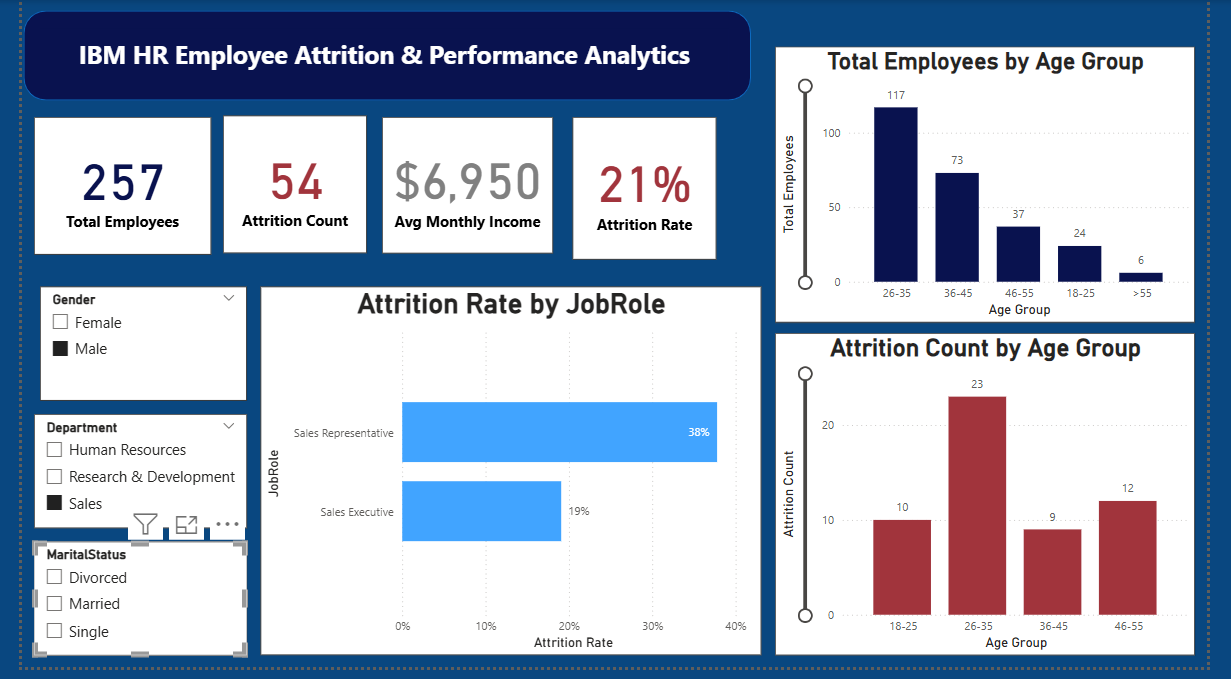

What the dashboard file says about the page in this screenshot:
{"tool":"powerbi","page":{"name":"Page 1","canvas":[1280,720],"ordinal":0},"visuals":[{"type":"clusteredColumnChart","fields":{"Category":["Table.Age Group"],"Y":["_Measures.Total Employees"]},"box":[812.9,50.2,453.4,297.9],"z":0},{"type":"card","fields":{"Values":["_Measures.Total Employees"]},"box":[13,126.3,191.1,149],"z":1000},{"type":"card","fields":{"Values":["_Measures.Attrition Count"]},"box":[217,124.7,155.4,149],"z":2000},{"type":"card","fields":{"Values":["_Measures.Attrition Rate"]},"box":[594.3,126.3,155.4,153.8],"z":3000},{"type":"card","fields":{"Values":["_Measures.Avg Monthly Income"]},"box":[388.6,126.3,184.6,147.3],"z":4000},{"type":"clusteredBarChart","fields":{"Category":["WA_Fn-UseC_-HR-Employee-Attrition.JobRole"],"Y":["_Measures.Attrition Rate"]},"box":[257.5,309.3,540.8,398.3],"z":5000},{"type":"clusteredColumnChart","fields":{"Category":["Table.Age Group"],"Y":["_Measures.Attrition Count"]},"box":[812.9,359.5,453.4,348.1],"z":6000},{"type":"slicer","fields":{"Values":["WA_Fn-UseC_-HR-Employee-Attrition.Department"]},"box":[13,446.9,229.9,123.1],"z":7000},{"type":"slicer","fields":{"Values":["WA_Fn-UseC_-HR-Employee-Attrition.Gender"]},"box":[19.4,309.3,223.5,123.1],"z":8000},{"type":"slicer","fields":{"Values":["WA_Fn-UseC_-HR-Employee-Attrition.MaritalStatus"]},"box":[13,584.5,229.9,123.1],"z":9000},{"type":"shape","box":[1.6,11.3,785.3,97.2],"z":10000},{"type":"textbox","box":[19.4,30.8,743.2,56.7],"z":11000}]}

Visuals, with their boxes in screenshot pixels (x1, y1, x2, y2), scaled from the page's 1280x720 canvas onto the 1231x679 screenshot:
clusteredColumnChart - Table.Age Group x _Measures.Total Employees: 782:47:1218:328
card - _Measures.Total Employees: 13:119:196:260
card - _Measures.Attrition Count: 209:118:358:258
card - _Measures.Attrition Rate: 572:119:721:264
card - _Measures.Avg Monthly Income: 374:119:551:258
clusteredBarChart - WA_Fn-UseC_-HR-Employee-Attrition.JobRole x _Measures.Attrition Rate: 248:292:768:667
clusteredColumnChart - Table.Age Group x _Measures.Attrition Count: 782:339:1218:667
slicer - WA_Fn-UseC_-HR-Employee-Attrition.Department: 13:421:234:538
slicer - WA_Fn-UseC_-HR-Employee-Attrition.Gender: 19:292:234:408
slicer - WA_Fn-UseC_-HR-Employee-Attrition.MaritalStatus: 13:551:234:667
shape: 2:11:757:102
textbox: 19:29:733:83
